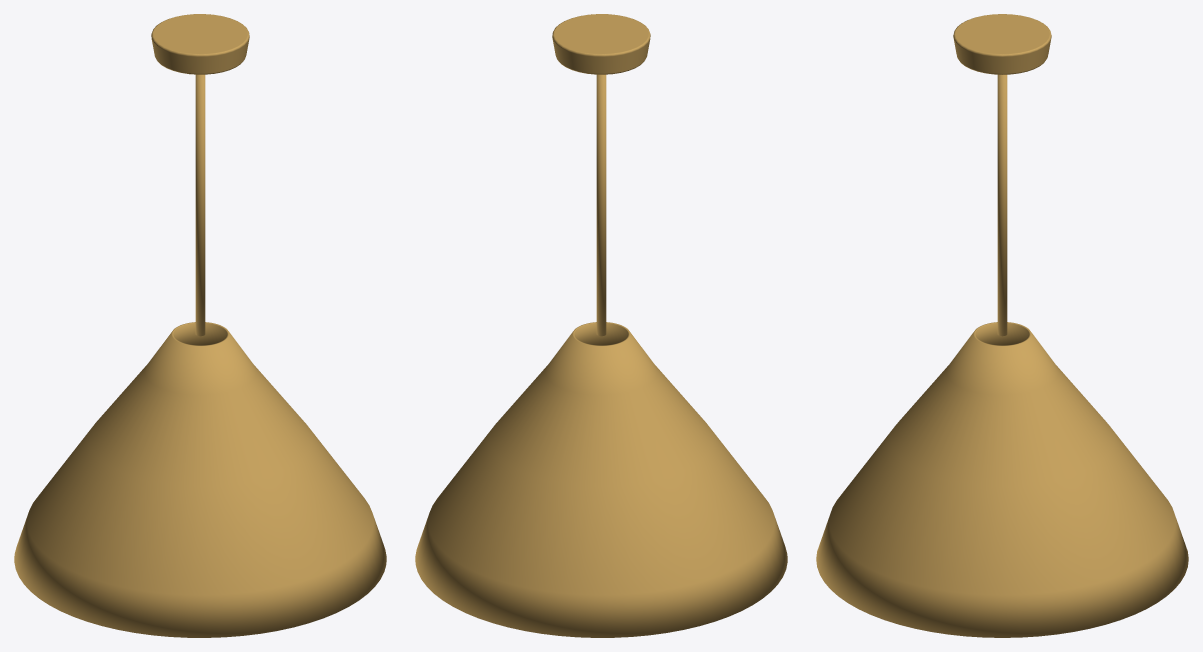
The picture shows the model from 3 angles, left to right: view 1: azimuth 30°, elevation 25°; view 2: azimuth 150°, elevation 25°; view 3: azimuth 270°, elevation 25°; orthographic projection.
Parts seen in each view (by area): view 1: Brass bell, Ceiling canopy, Brass rod; view 2: Brass bell, Ceiling canopy, Brass rod; view 3: Brass bell, Ceiling canopy, Brass rod.
Boxes of the visible parts, left/top/right/bottom form: Brass bell: left=14, top=322, right=386, bottom=637; Ceiling canopy: left=151, top=14, right=249, bottom=74; Brass rod: left=195, top=74, right=205, bottom=336; Brass bell: left=415, top=322, right=787, bottom=637; Ceiling canopy: left=552, top=14, right=650, bottom=74; Brass rod: left=596, top=74, right=606, bottom=336; Brass bell: left=816, top=322, right=1188, bottom=637; Ceiling canopy: left=953, top=14, right=1051, bottom=74; Brass rod: left=997, top=74, right=1007, bottom=336.
Bounding box in the file's own units: 0.45 × 0.7 × 0.45.
